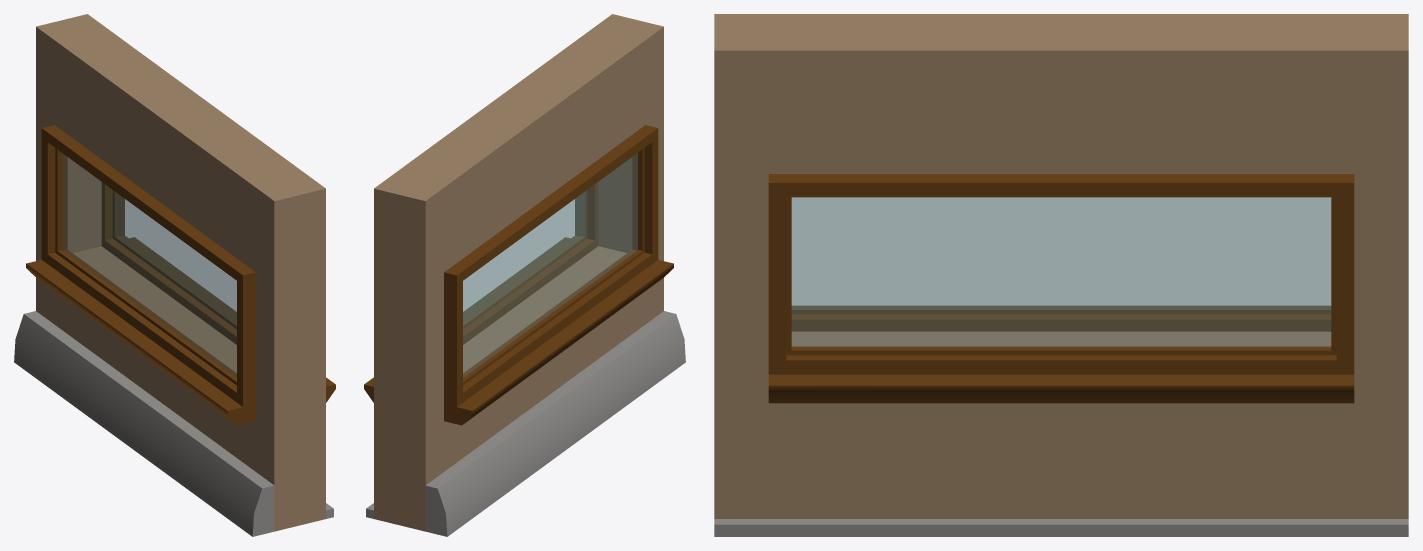
Rendered from SM_Wall_Window_Large.fbx.
The picture shows the model from 3 angles, left to right: view 1: azimuth 30°, elevation 25°; view 2: azimuth 150°, elevation 25°; view 3: azimuth 270°, elevation 25°; orthographic projection. The views are drawn at different scales.
Visible parts, largest first — view 1: SM_Wall_Window_Large_NoTop, SM_Window_Large; view 2: SM_Wall_Window_Large_NoTop, SM_Window_Large; view 3: SM_Wall_Window_Large_NoTop, SM_Window_Large.
Boxes of the visible parts, bbox=[...] form: SM_Wall_Window_Large_NoTop: bbox=[14, 14, 335, 536]; SM_Window_Large: bbox=[62, 153, 236, 377]; SM_Wall_Window_Large_NoTop: bbox=[364, 14, 685, 536]; SM_Window_Large: bbox=[463, 153, 637, 377]; SM_Wall_Window_Large_NoTop: bbox=[714, 14, 1408, 536]; SM_Window_Large: bbox=[791, 197, 1331, 346].
Size of the model in its own units: 105 by 306 by 400.
